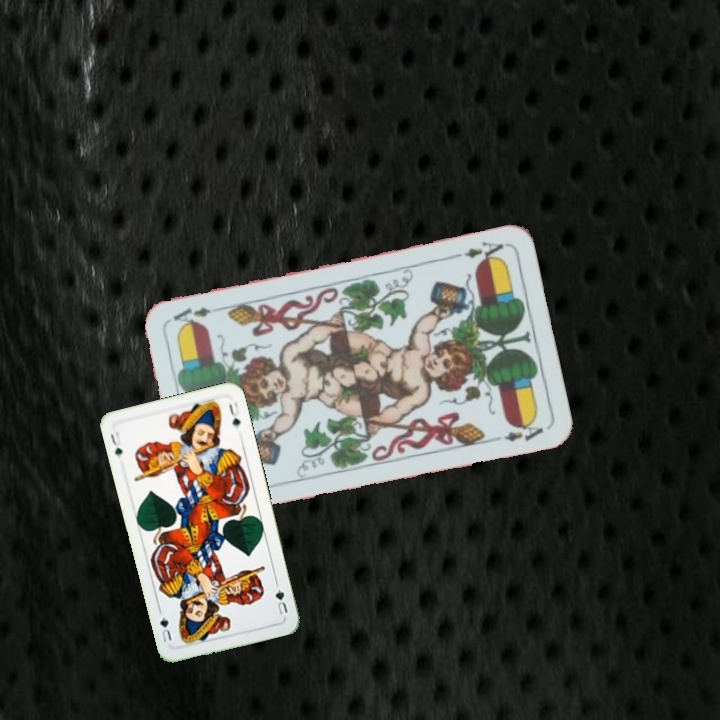EA: (449, 237, 506, 266)
GU: (271, 585, 290, 617), (106, 428, 125, 459)
